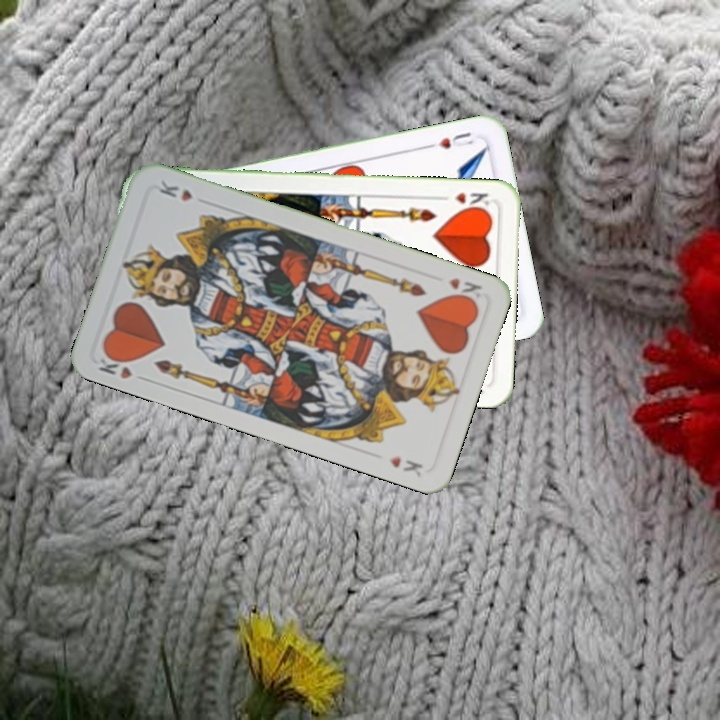HK: (94, 348, 151, 384), (435, 188, 492, 213), (444, 273, 485, 306)
HU: (422, 128, 476, 152)
